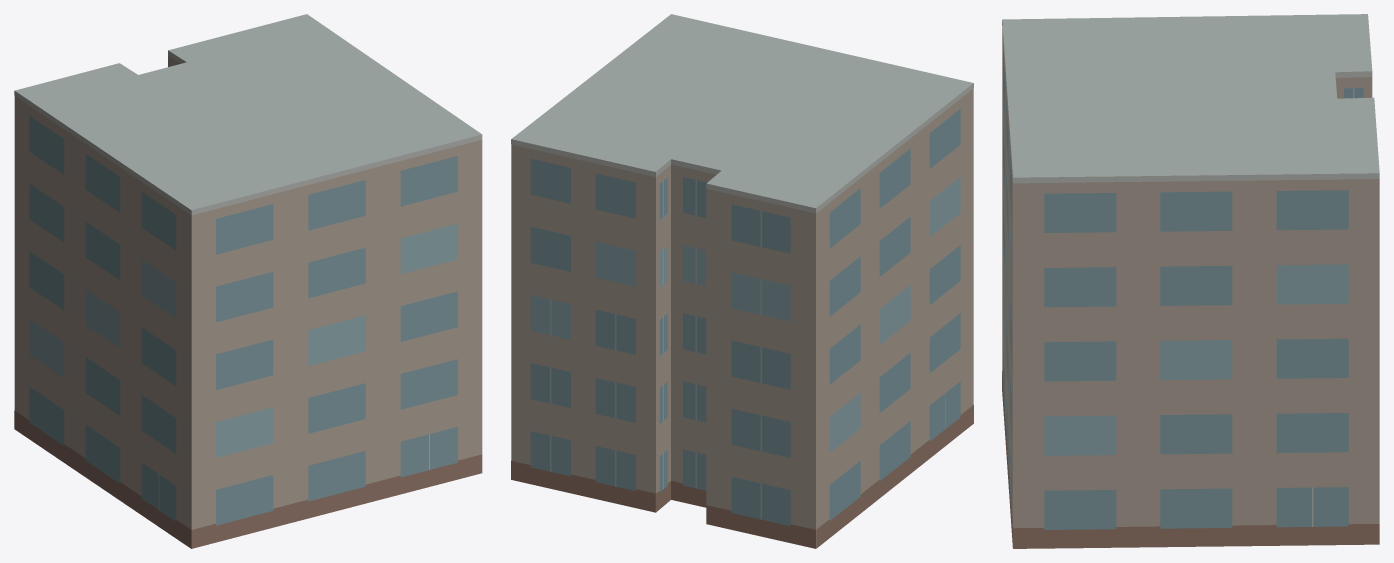
The model's file is survey-upis-33002533.glb.
3 views of the same model, side by side, from view 1: azimuth 30°, elevation 25°; view 2: azimuth 150°, elevation 25°; view 3: azimuth 270°, elevation 25° (orthographic). The views are drawn at different scales.
Visible parts, largest first — view 1: survey-upis-33002533.tmp; view 2: survey-upis-33002533.tmp; view 3: survey-upis-33002533.tmp.
Boxes of the visible parts, <box> form: survey-upis-33002533.tmp: <box>14,14,482,548</box>; survey-upis-33002533.tmp: <box>511,14,973,548</box>; survey-upis-33002533.tmp: <box>1002,14,1379,548</box>.
Bounding box in the file's own units: 15.04 × 15.9 × 14.67.
